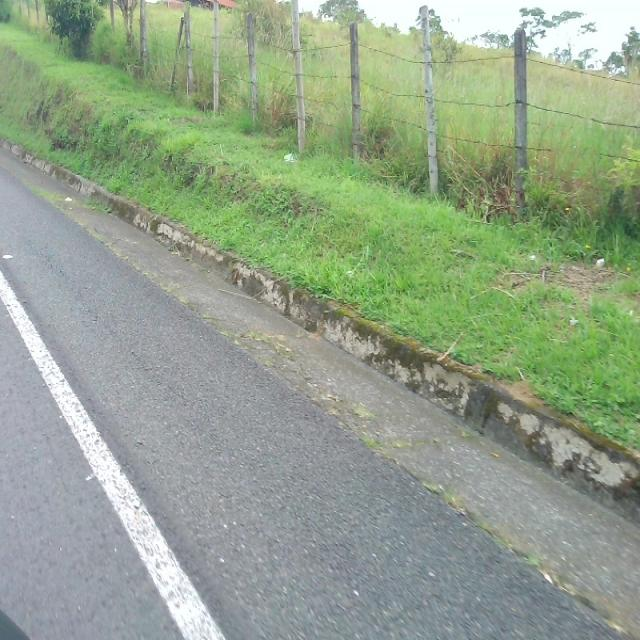DITCH: (1, 130, 638, 638), (1, 140, 638, 638)
